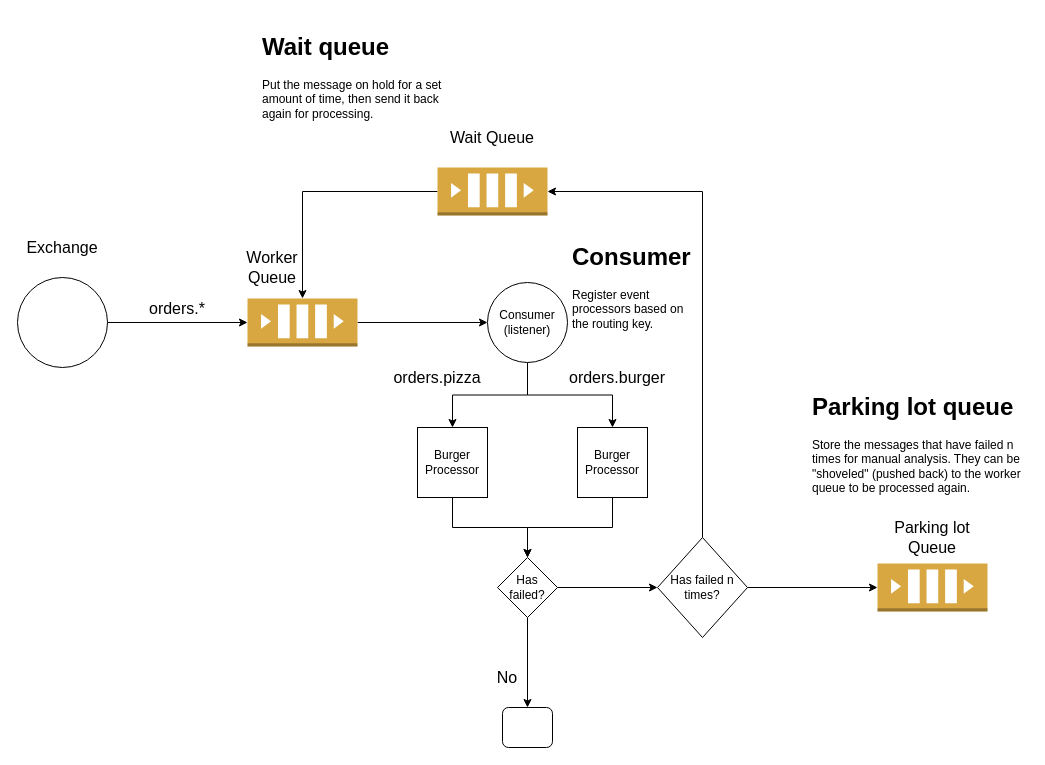
Some shapes in this 1045 by 765 pixel diagram are drawn without their labels. The shapes that lost their labels are listed below. From the top down, each one's centre as x and y in pixels, then its label:
At (62,322): "orders".
At (527,727): "Done".
